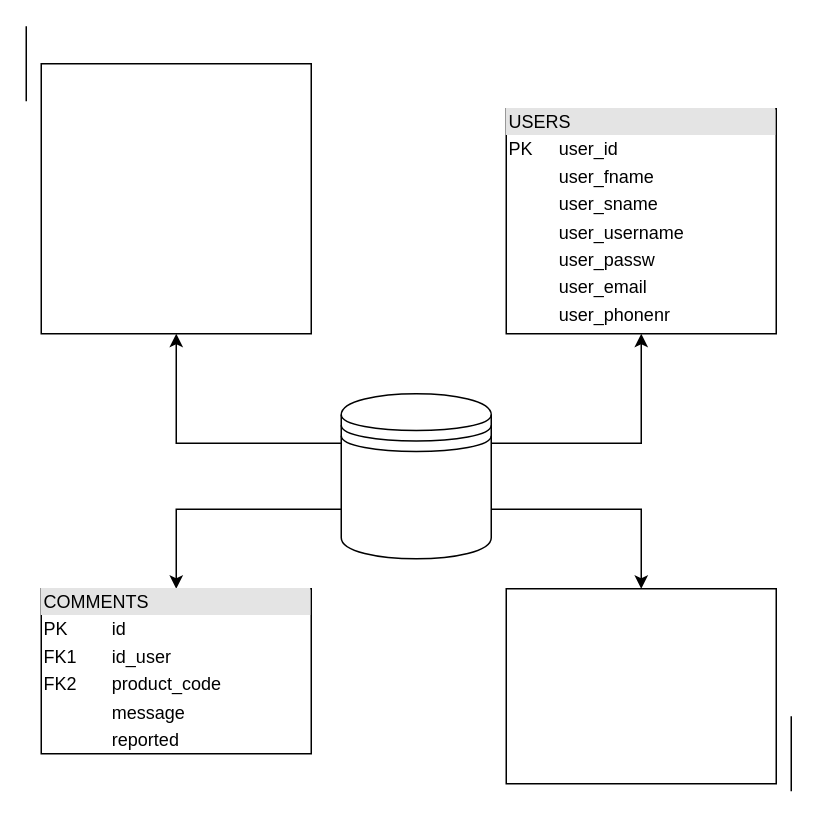
The diagram is 819 pixels wide and 819 high, and some of its shapes have lost their labels. The centre of each missing label's shape, as x and y in pixels:
"MAILS PK mail_id mail_sender mail_receiver mail_subject mail_message mail_date" belongs at (640,685).
"PRODUCTS PK code url product_name generic_name quantity packaging : : reported" belongs at (175,198).
